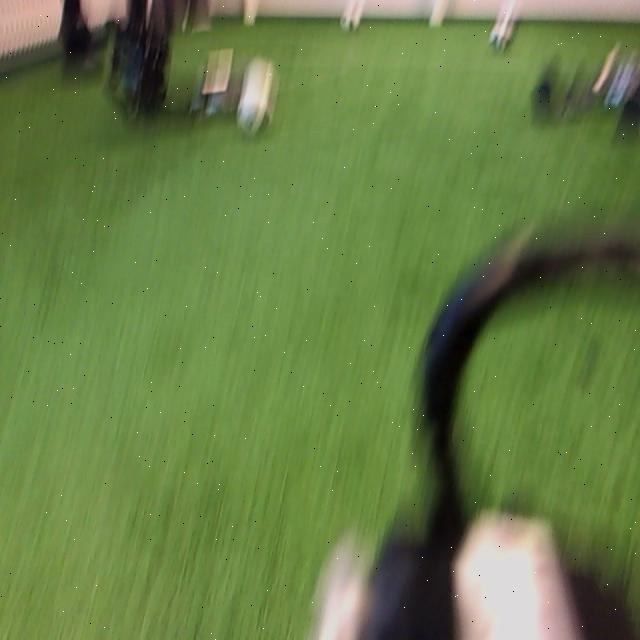ball: (234, 56, 281, 137), (489, 2, 519, 56), (337, 0, 364, 37)
